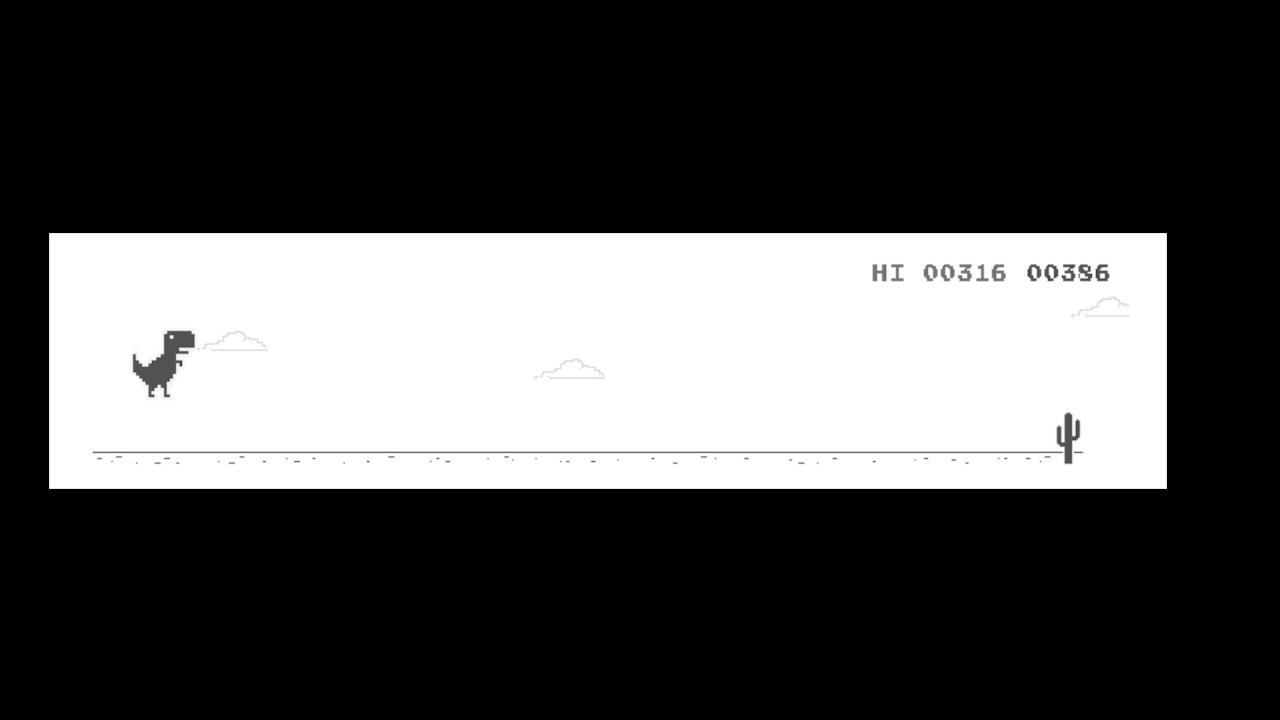dino: (134, 325, 195, 399)
small1: (1055, 407, 1081, 463)
